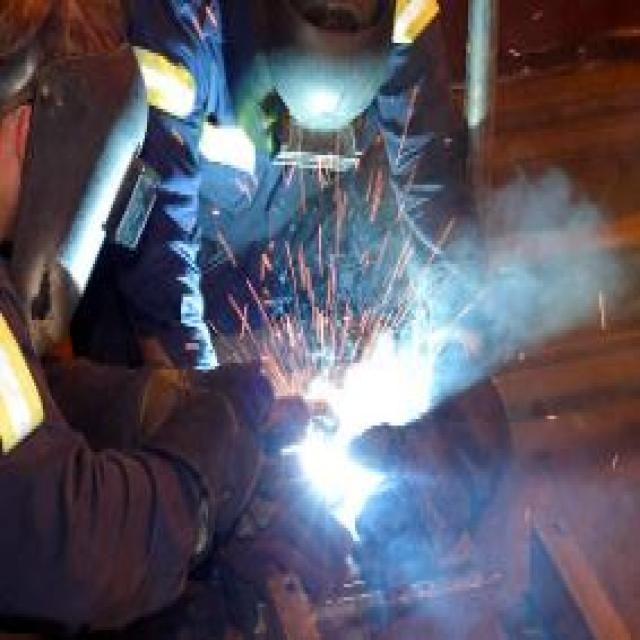welding: (338, 366, 430, 421), (309, 439, 355, 498)
